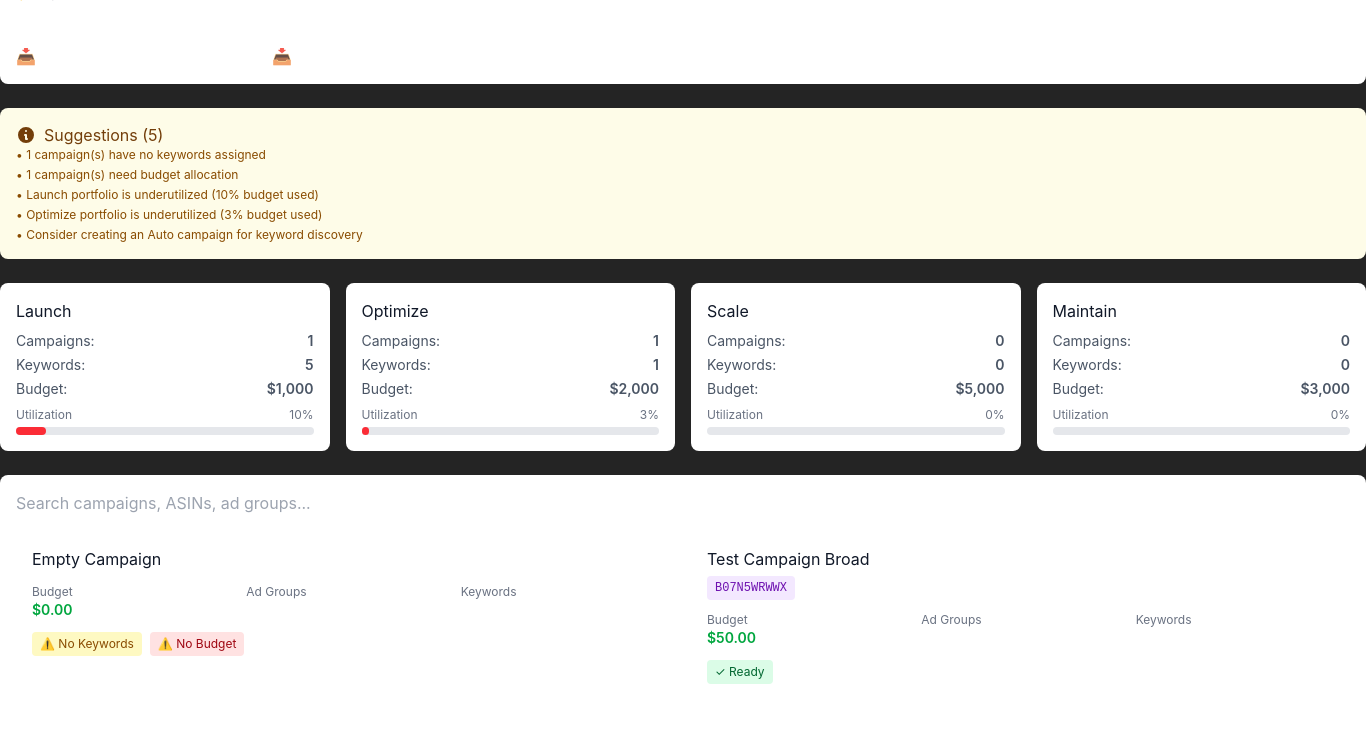
Scenario: BrandTabCampaigns › should show empty state when no campaigns match filter
// Search for something that doesn't exist
Type "NonexistentCampaign" into the search field with placeholder "Search campaigns, ASINs, ad groups..." at (637, 503), box [16,491,1258,515]
(page scrolled)
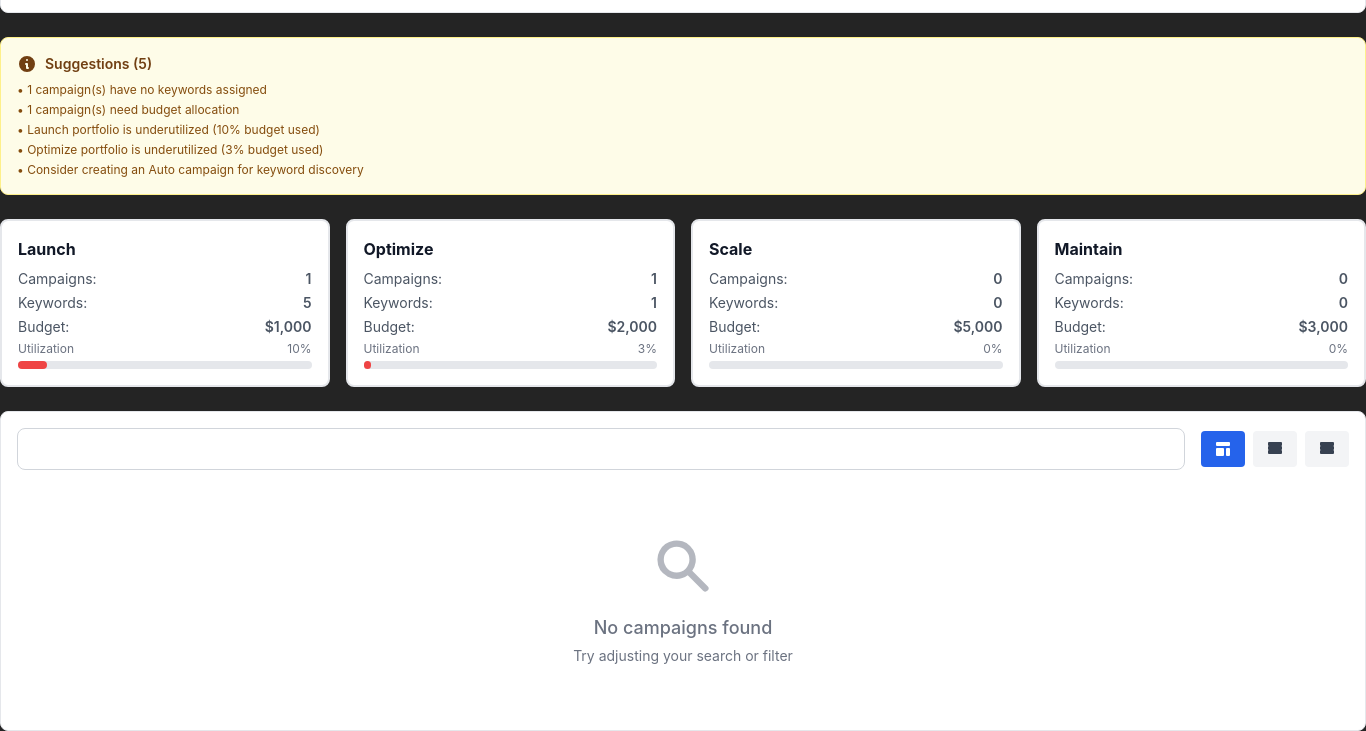
Expected: the text "No campaigns found" is shown, [594,617,772,638]
Expected: the text "Try adjusting your search or filter" is shown, [573,647,793,664]
